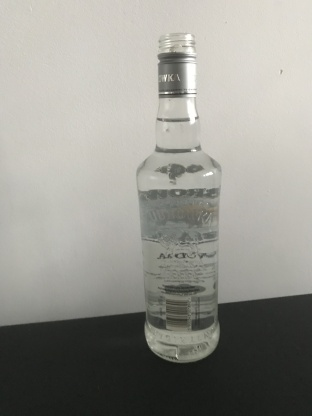nakretka: (155, 30, 198, 98)
